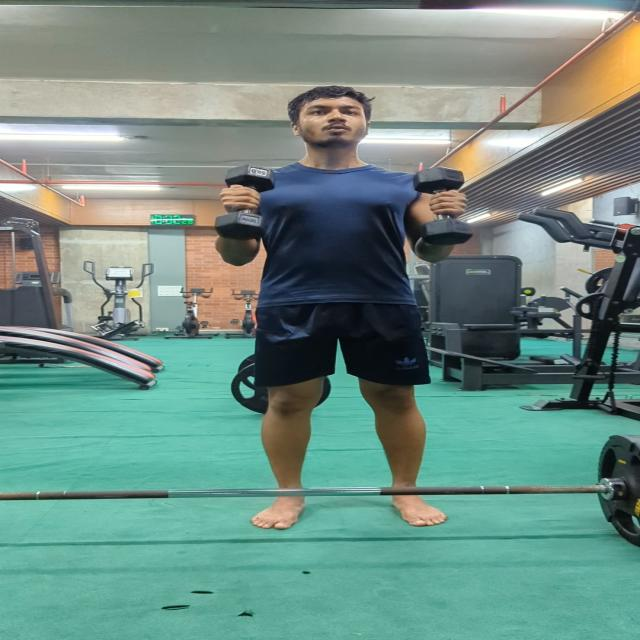Normal_DumbbellBicepCurls: (202, 81, 492, 535)
